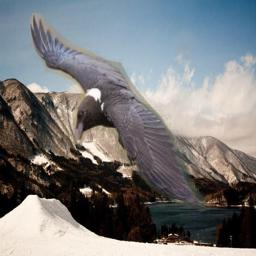Crow: (30, 13, 206, 211)
